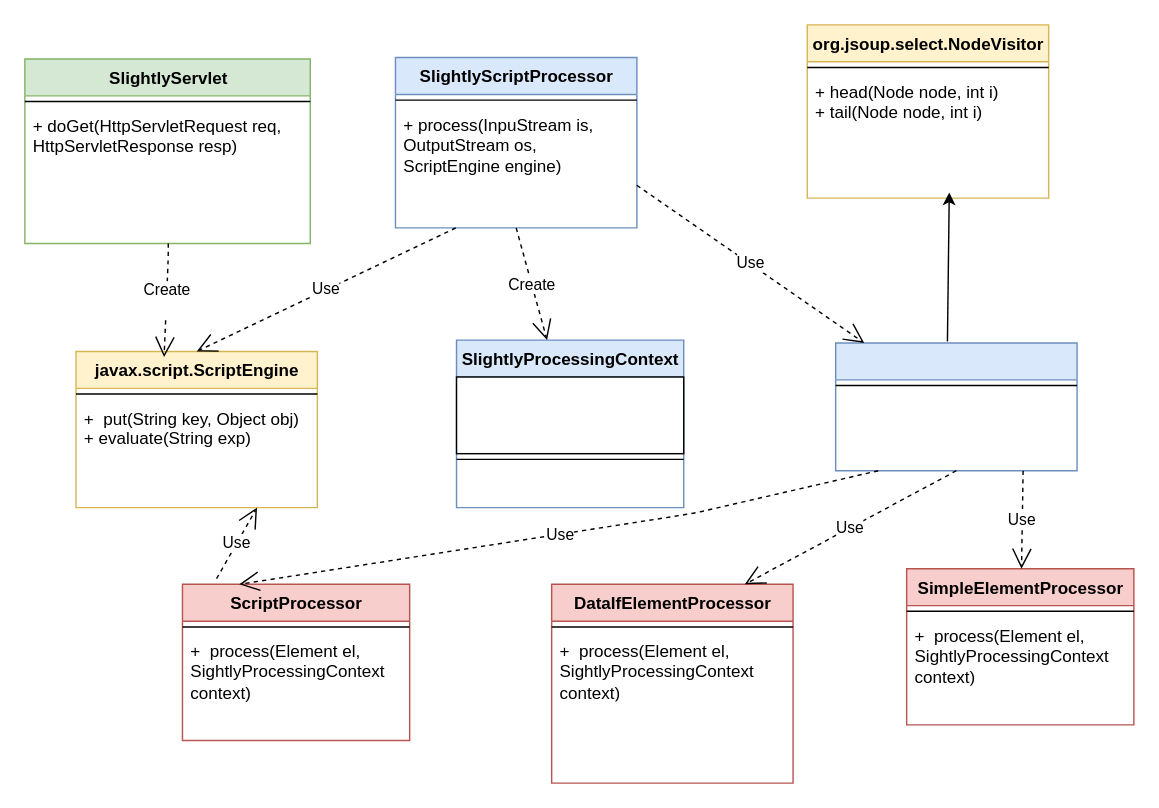
Image size: 1159x808. Some labels were removed from this diagram. The centre of each missing label's shape, as x and y in pixels:
"+ ScriptEngine: engine + OutputStream os + int currentNodeLevel" belongs at [569,415].
"SlightlyNodeVisitor" belongs at [955,406].
